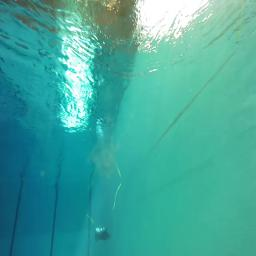front: (94, 226, 110, 240)
